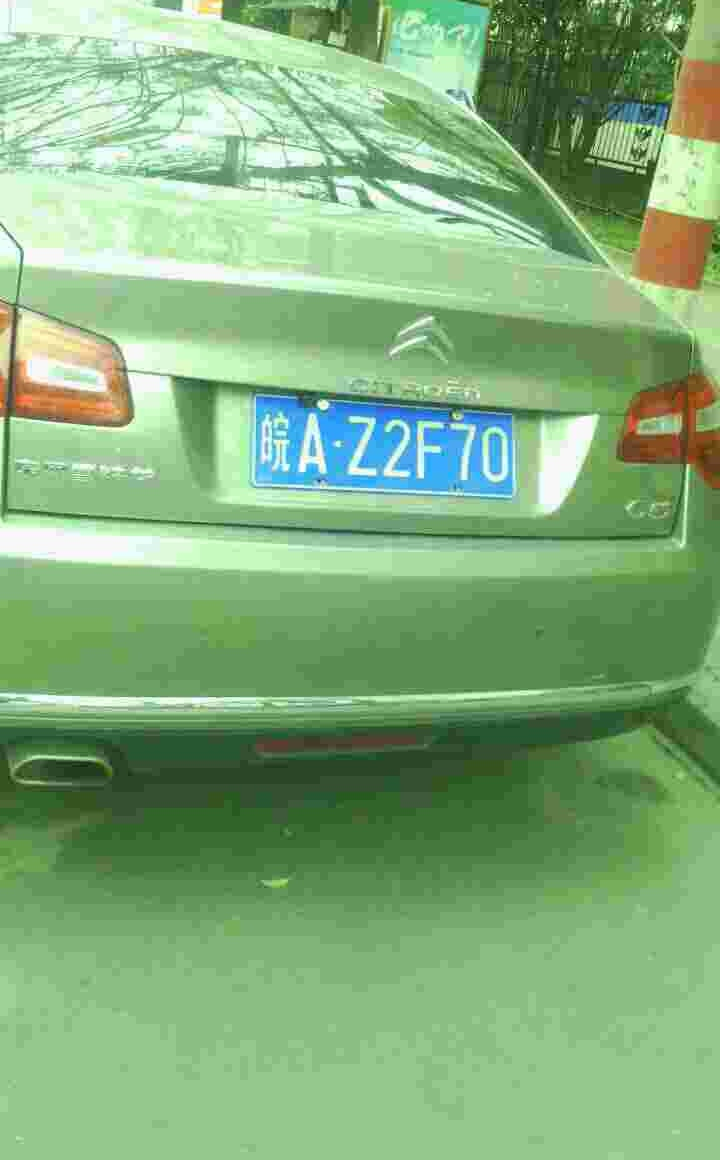license_plate: (251, 401, 514, 501)
